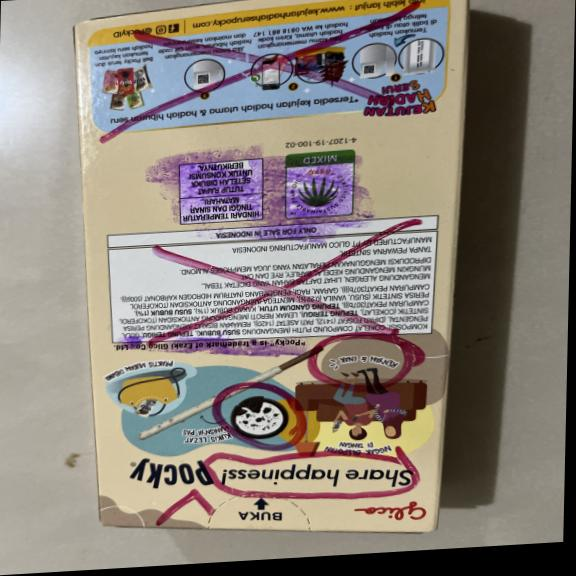Kertas: (69, 0, 466, 553)
